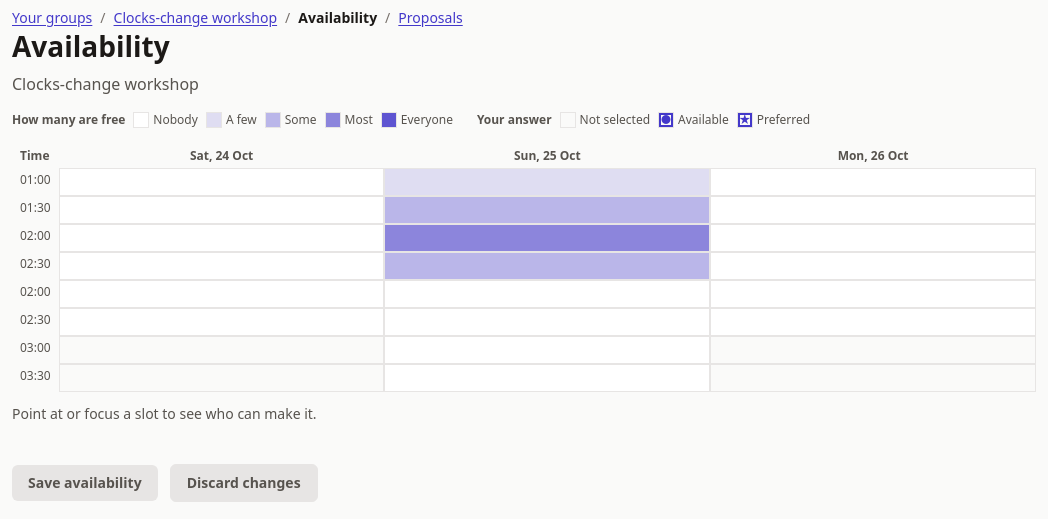
AvailabilityBoard errors › becomes read-only when a save is rejected because the group was confirmed
Press the mouse on the cell named "Sat, 24 Oct at 01:00": {"x": 222, "y": 182} [59,168,384,196]
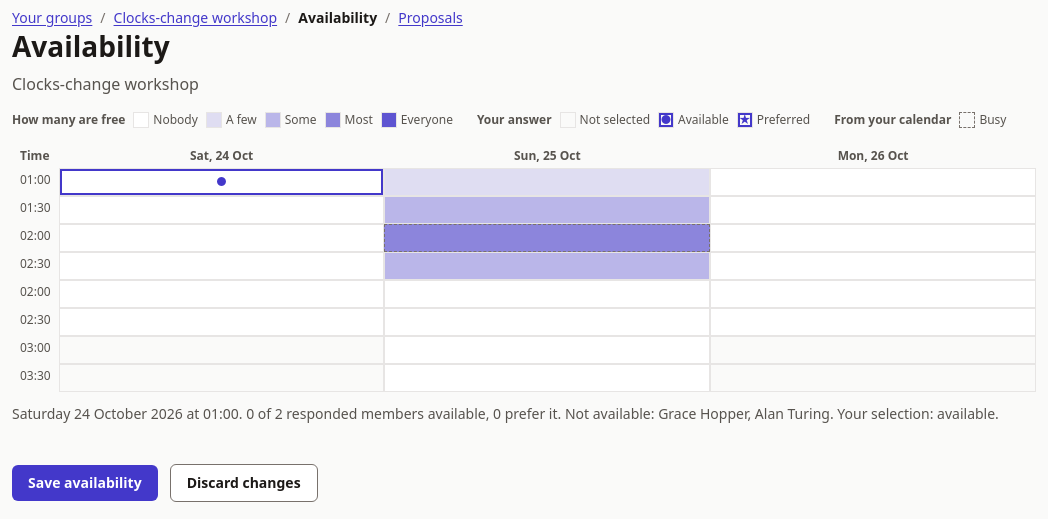
Click the button "Save availability": {"x": 85, "y": 483} [12,465,158,501]
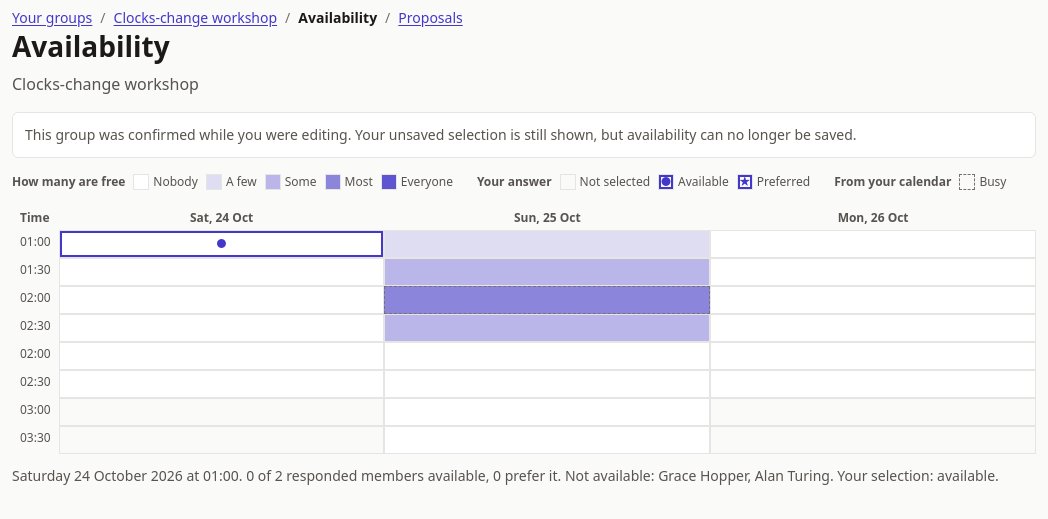
Check: the text "confirmed while you were editing" is shown, box [25,125,856,144]
Check: the cell "●" is disabled, box [59,230,384,258]
